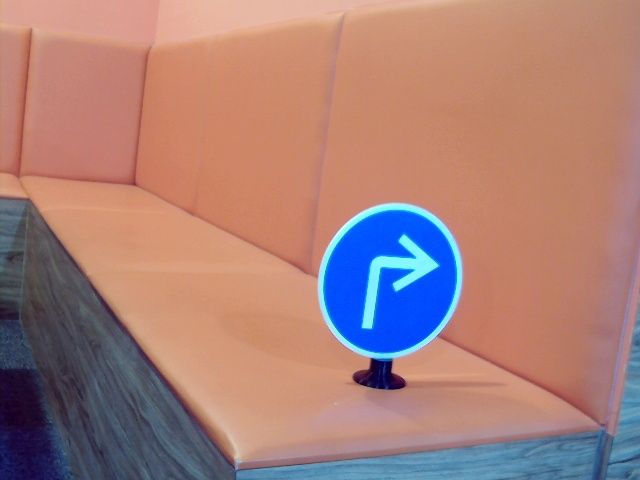turn_right: (358, 237, 432, 330)
